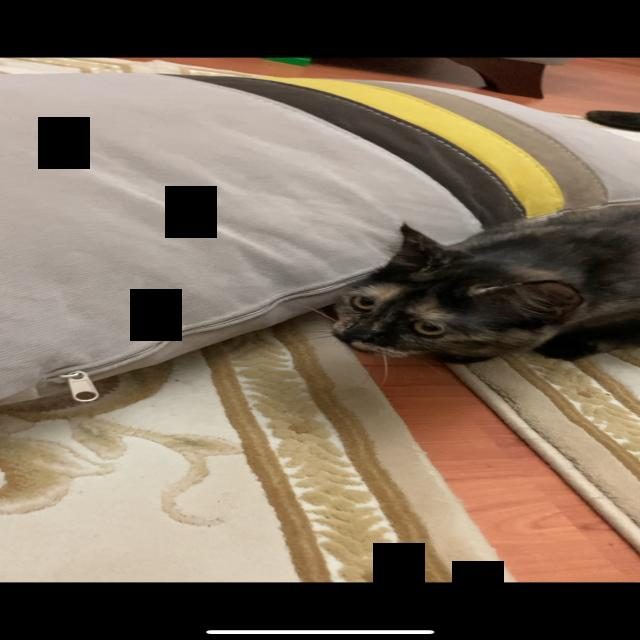authorized: (319, 207, 638, 364)
